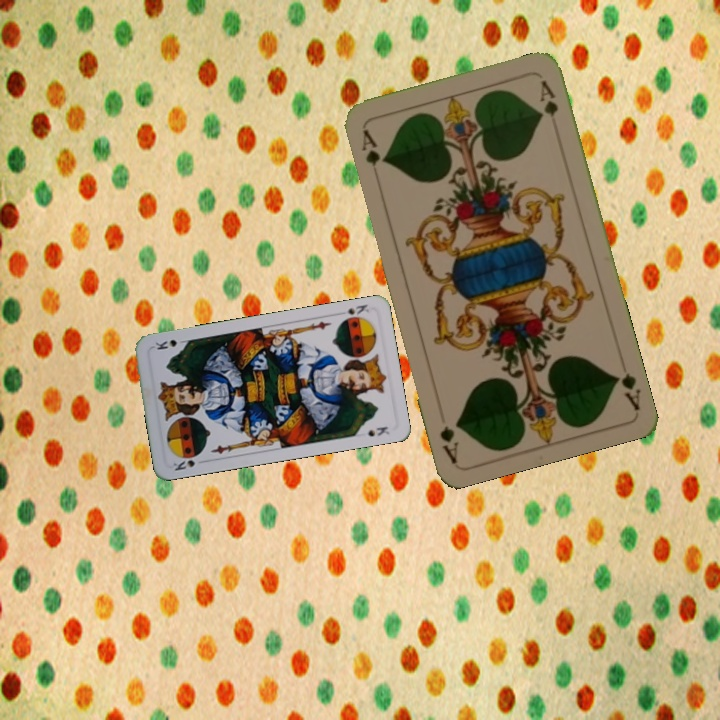GA: (357, 125, 386, 183), (610, 368, 643, 412)
SK: (169, 456, 198, 473), (342, 300, 371, 317)
